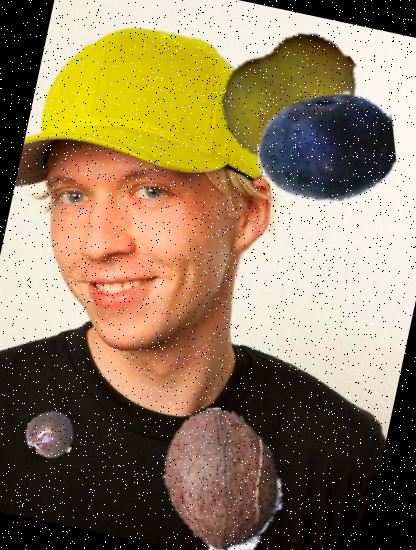Blueberry: (245, 67, 406, 229)
Cocos: (137, 394, 308, 550)
Passion: (21, 404, 81, 465)
Peach: (208, 15, 376, 182)
